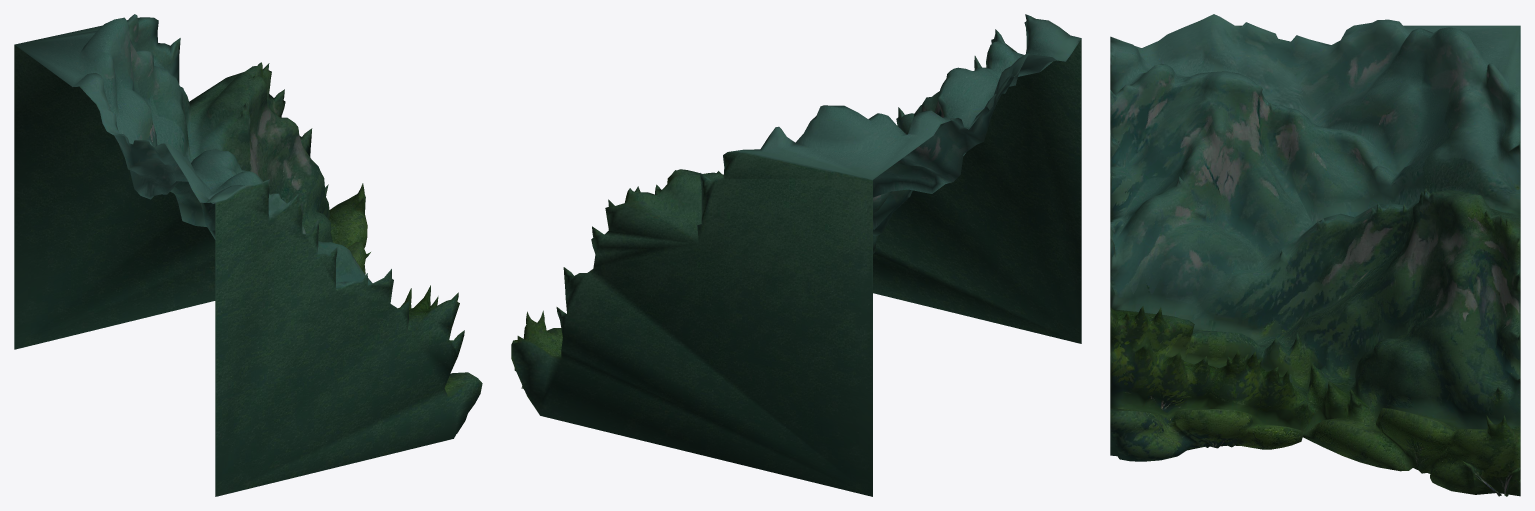
The model's file is village_valley_rim.glb.
3 renders of one model, left to right at view 1: azimuth 30°, elevation 25°; view 2: azimuth 150°, elevation 25°; view 3: azimuth 270°, elevation 25°, orthographic. The views are drawn at different scales.
Parts seen in each view (by area): view 1: tripo_node_d23a6578-8670-4832-a386-9c5c2a8f97a6; view 2: tripo_node_d23a6578-8670-4832-a386-9c5c2a8f97a6; view 3: tripo_node_d23a6578-8670-4832-a386-9c5c2a8f97a6.
Part boxes in pixels (x1,y1,x2,y2): tripo_node_d23a6578-8670-4832-a386-9c5c2a8f97a6: (14, 14, 482, 496); tripo_node_d23a6578-8670-4832-a386-9c5c2a8f97a6: (511, 14, 1081, 496); tripo_node_d23a6578-8670-4832-a386-9c5c2a8f97a6: (1110, 14, 1520, 496).
Bounding box in the file's own units: 0.998 × 0.9199 × 0.998.
1 material, 1 textured.
